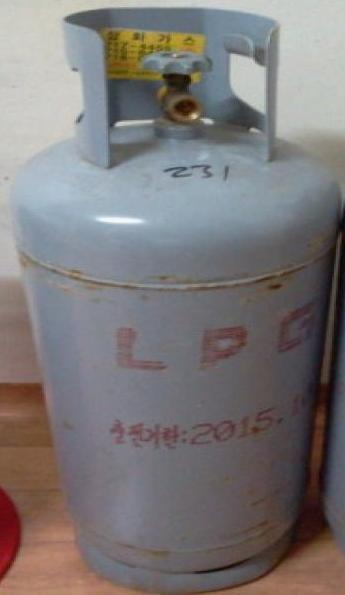cylinder: (1, 1, 345, 595)
